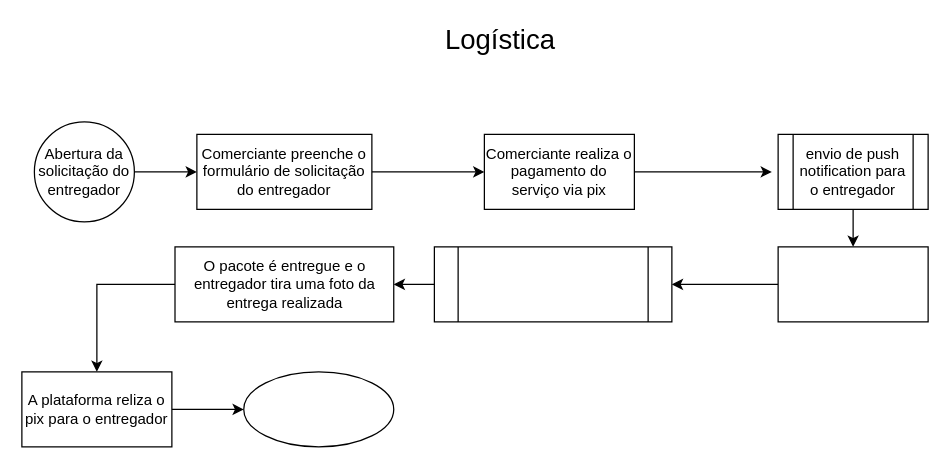
The diagram is 950 pixels wide and 469 high, and some of its shapes have lost their labels. The shapes that lost their labels are listed below. From the top down, each one's box as (x1, y1, x2, y2) in pixels, then its label:
(433, 246, 672, 322): Destinatário recebe push notification informando que o entregador está á caminho
(777, 246, 928, 322): entregador coleta o pacote junto ao comerciante
(242, 371, 394, 447): fim da entrega
